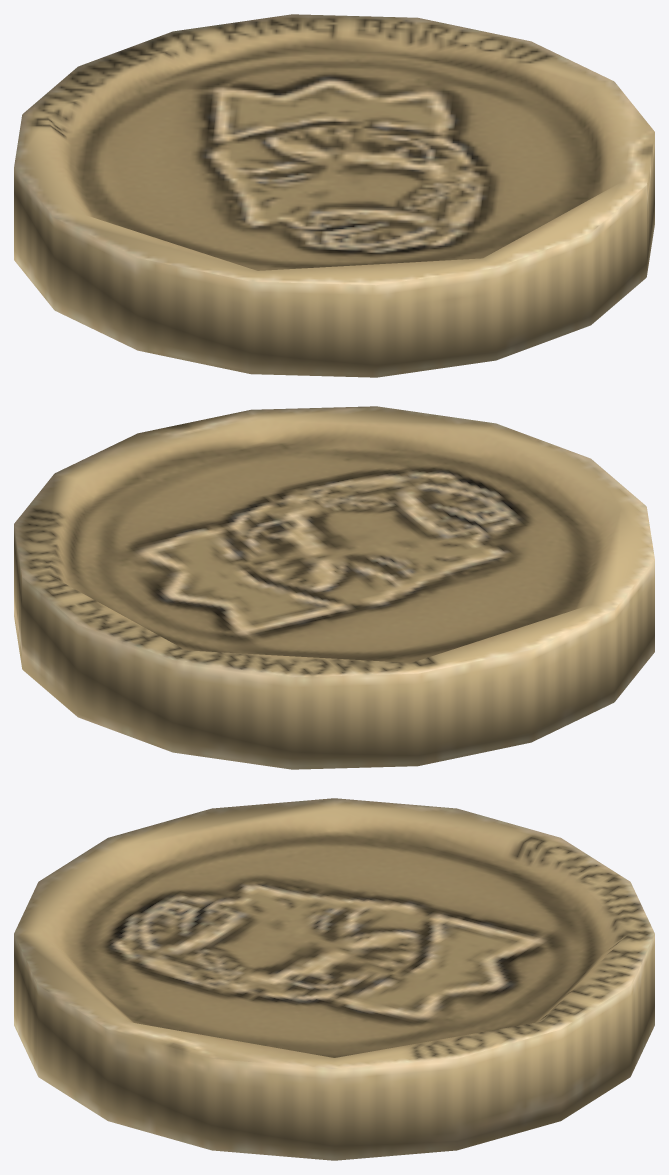
The model's file is Coin.fbx.
3 renders of one model, top to bottom at view 1: azimuth 30°, elevation 25°; view 2: azimuth 150°, elevation 25°; view 3: azimuth 270°, elevation 25°, orthographic.
Visible parts, largest first — view 1: coin; view 2: coin; view 3: coin.
Boxes of the visible parts, <box> form: coin: <box>14,14,654,377</box>; coin: <box>14,406,654,769</box>; coin: <box>14,798,654,1160</box>.
Bounding box in the file's own units: 5.95 × 0.939 × 5.95.
